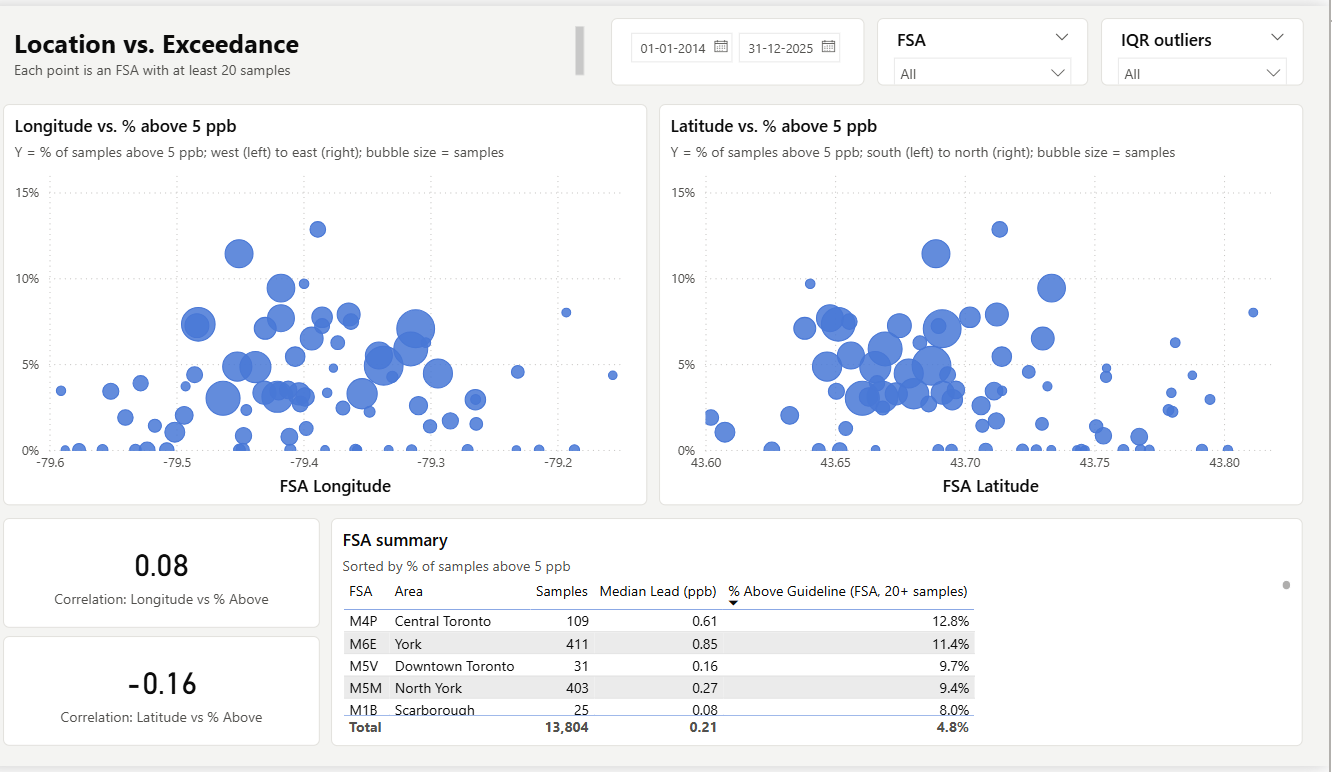

Layout of this report page (visuals, bound fields, positions):
{"tool":"powerbi","page":{"name":"FSA Analysis","canvas":[1280,720],"ordinal":3},"visuals":[{"type":"textbox","box":[24,12,560,64],"z":1000},{"type":"slicer","fields":{"Values":["Date.Date"]},"box":[600,12,240,64],"z":2000},{"type":"slicer","fields":{"Values":["FSA Lookup.FSA"]},"box":[852,12,200,64],"z":3000},{"type":"slicer","fields":{"Values":["Lead Samples.Outlier Status"]},"box":[1064,12,192,64],"z":4000},{"type":"scatterChart","title":"Longitude vs. % above 5 ppb","fields":{"Category":["FSA Lookup.FSA"],"Size":["Lead Samples.Samples"],"X":["Lead Samples.FSA Longitude"],"Y":["Lead Samples.% Above Guideline (FSA, 20+ samples)"]},"box":[24,92,610,380],"z":5000},{"type":"scatterChart","title":"Latitude vs. % above 5 ppb","fields":{"Category":["FSA Lookup.FSA"],"Size":["Lead Samples.Samples"],"X":["Lead Samples.FSA Latitude"],"Y":["Lead Samples.% Above Guideline (FSA, 20+ samples)"]},"box":[646,92,610,380],"z":6000},{"type":"card","fields":{"Values":["Lead Samples.Correlation: Longitude vs % Above"]},"box":[24,484,300,104],"z":7000},{"type":"card","fields":{"Values":["Lead Samples.Correlation: Latitude vs % Above"]},"box":[24,596,300,104],"z":8000},{"type":"tableEx","title":"FSA summary","fields":{"Values":["FSA Lookup.FSA","FSA Lookup.Area","Lead Samples.Samples","Lead Samples.Median Lead (ppb)","Lead Samples.% Above Guideline (FSA, 20+ samples)"]},"box":[336,484,920,216],"z":9000}]}

Visuals, with their boxes in screenshot pixels (x1, y1, x2, y2), scaled from the page's 1280x720 canvas onto the 1332x772 screenshot:
textbox: detection(25, 13, 608, 81)
slicer - Date.Date: detection(624, 13, 874, 81)
slicer - FSA Lookup.FSA: detection(887, 13, 1095, 81)
slicer - Lead Samples.Outlier Status: detection(1107, 13, 1307, 81)
"Longitude vs. % above 5 ppb" scatterChart: detection(25, 99, 660, 506)
"Latitude vs. % above 5 ppb" scatterChart: detection(672, 99, 1307, 506)
card - Lead Samples.Correlation: Longitude vs % Above: detection(25, 519, 337, 630)
card - Lead Samples.Correlation: Latitude vs % Above: detection(25, 639, 337, 751)
"FSA summary" tableEx: detection(350, 519, 1307, 751)
